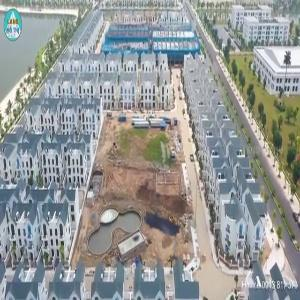drone: (106, 182, 208, 284)
